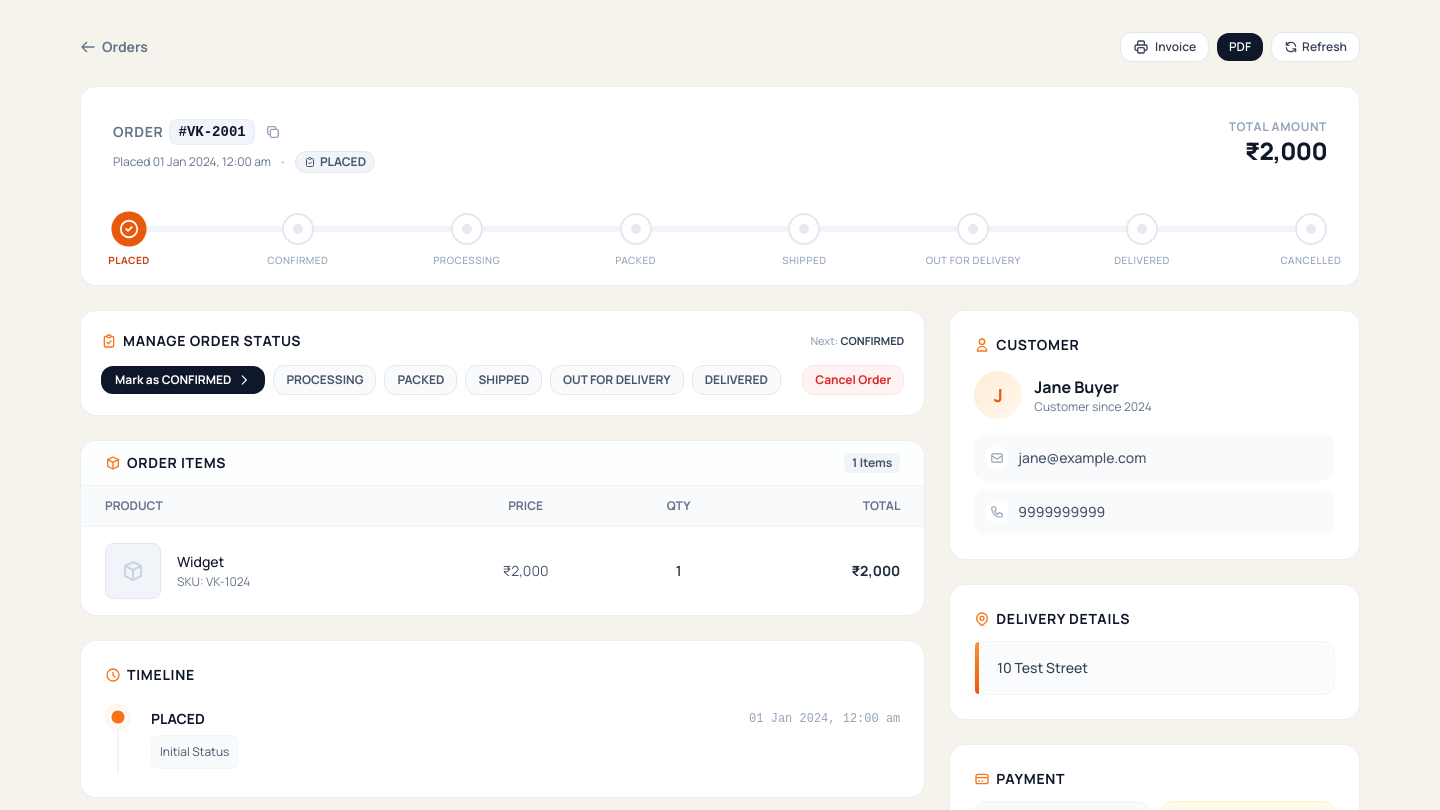
Test: AdminOrderDetails Component › advances the order to the next stage
Expected: the text "#VK-2001" is shown, 170,119 -> 255,145
Click the button "Mark as CONFIRMED" at coordinates (183, 380), box 101,366 -> 265,394
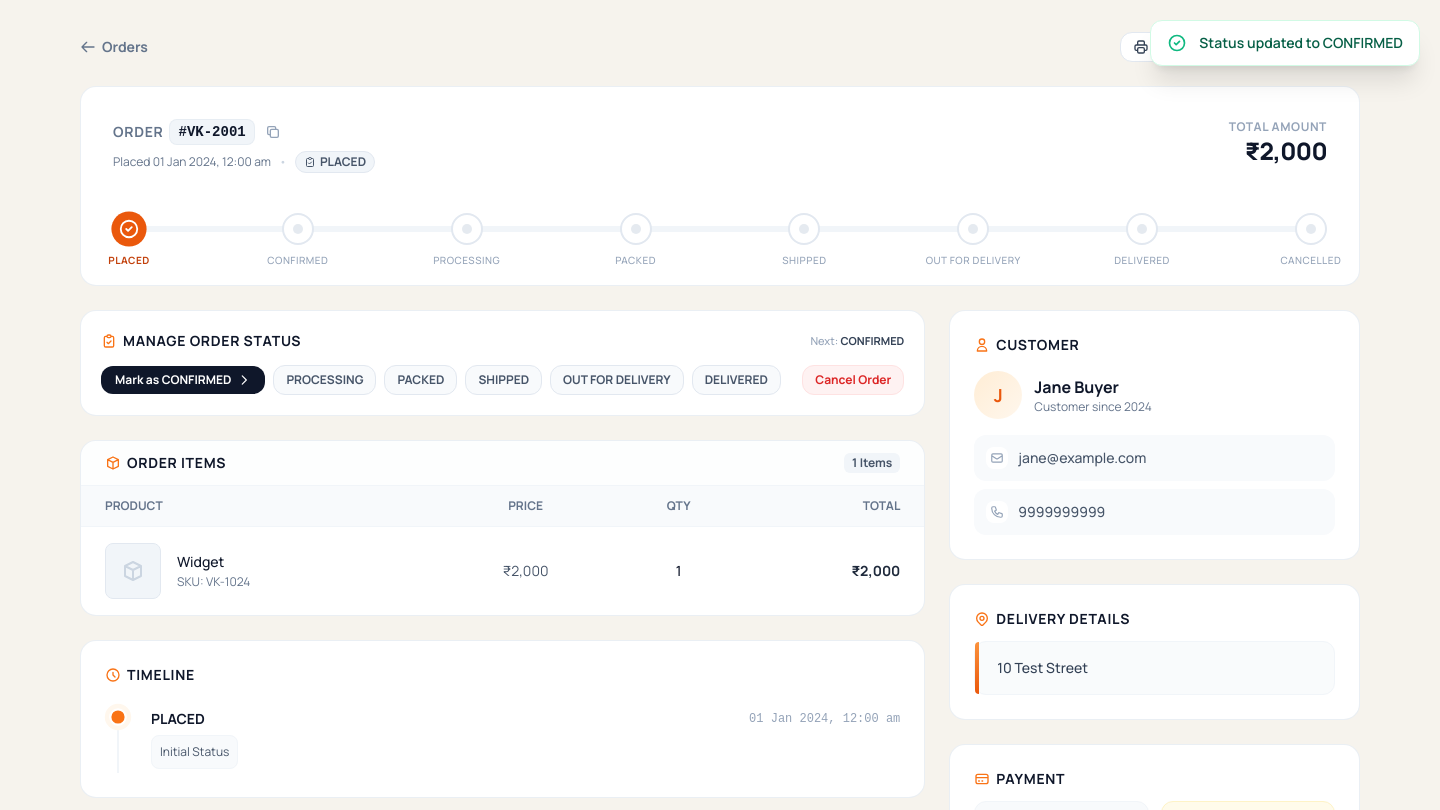
Now the text "Status updated to CONFIRMED" is shown, box 1199,33 -> 1403,53
